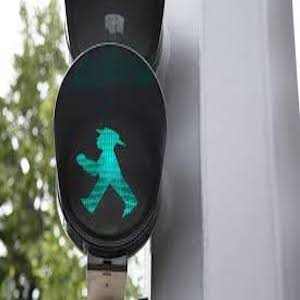green: (73, 126, 142, 219)
